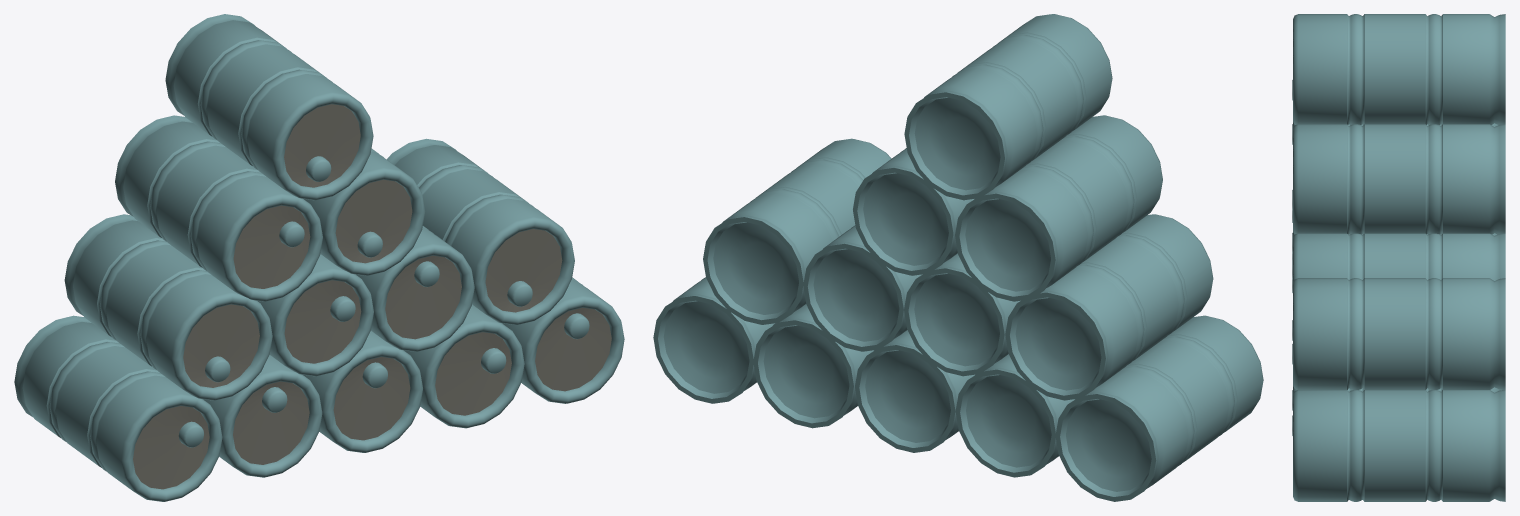
Rendered from EM_141_piled_oil_barrels_var1.glb.
3 views of the same model, side by side, from view 1: azimuth 30°, elevation 25°; view 2: azimuth 150°, elevation 25°; view 3: azimuth 270°, elevation 25° (orthographic). The views are drawn at different scales.
Visible parts, largest first — view 1: barrel_3.003, barrel_1.003, barrel_1, barrel_3, barrel_3.001, barrel_3.002, barrel_2.001, barrel_1.001, barrel_2.002, barrel_2, barrel_2.003, barrel_1.002; view 2: barrel_3.003, barrel_1, barrel_1.003, barrel_3, barrel_3.001, barrel_3.002, barrel_2.001, barrel_2.002, barrel_1.001, barrel_2.003, barrel_2, barrel_1.002; view 3: barrel_3.001, barrel_2.001, barrel_3.003, barrel_3.002, barrel_2.002.
Part boxes in pixels (<box>): barrel_3.003: <box>165,14,373,200</box>; barrel_1.003: <box>115,115,322,301</box>; barrel_1: <box>14,315,222,501</box>; barrel_3: <box>64,214,272,400</box>; barrel_3.001: <box>387,138,574,324</box>; barrel_3.002: <box>304,148,425,275</box>; barrel_2.001: <box>502,277,624,403</box>; barrel_1.001: <box>404,304,524,428</box>; barrel_2.002: <box>356,226,474,351</box>; barrel_2: <box>203,355,322,477</box>; barrel_2.003: <box>303,331,422,452</box>; barrel_1.002: <box>258,254,373,376</box>; barrel_3.003: <box>904,14,1112,200</box>; barrel_1: <box>1055,315,1263,501</box>; barrel_1.003: <box>955,115,1162,301</box>; barrel_3: <box>1005,214,1213,400</box>; barrel_3.001: <box>703,138,891,324</box>; barrel_3.002: <box>853,148,974,275</box>; barrel_2.001: <box>653,277,774,403</box>; barrel_2.002: <box>803,225,922,351</box>; barrel_1.001: <box>753,304,873,428</box>; barrel_2.003: <box>855,330,974,452</box>; barrel_2: <box>955,354,1074,477</box>; barrel_1.002: <box>904,253,1020,376</box>; barrel_3.001: <box>1292,278,1505,389</box>; barrel_2.001: <box>1292,390,1505,501</box>; barrel_3.003: <box>1292,14,1505,124</box>; barrel_3.002: <box>1292,124,1505,234</box>; barrel_2.002: <box>1292,233,1505,282</box>.
Bounding box in the file's own units: 3.74 × 2.62 × 1.42.
